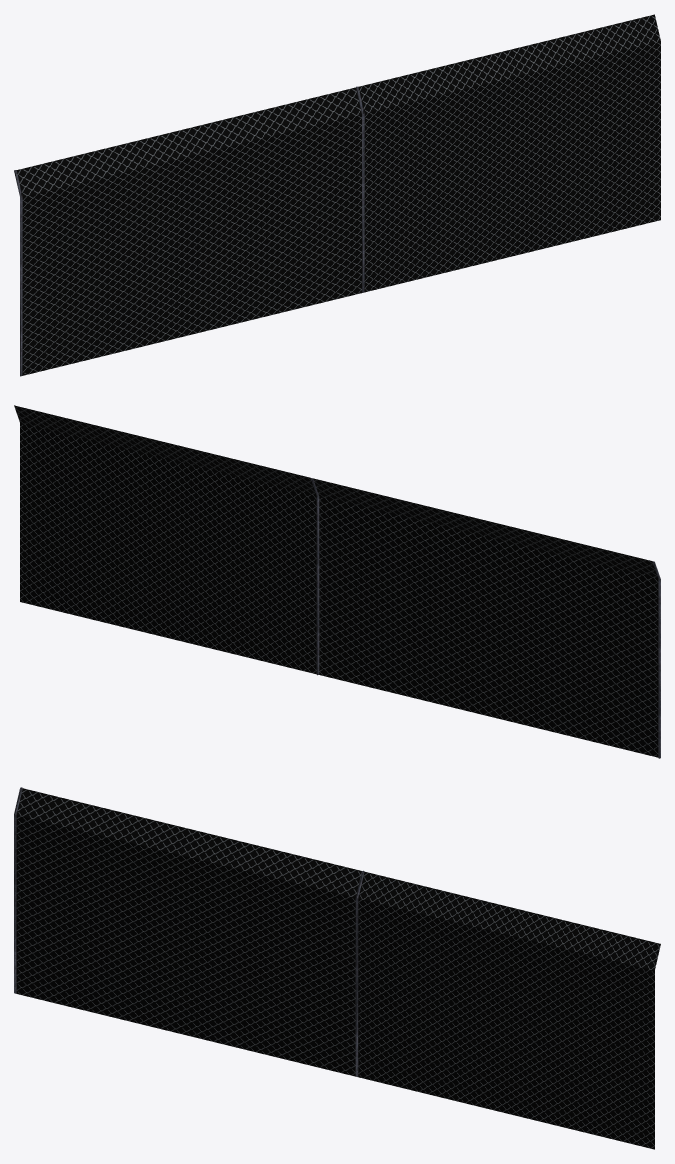
The model's file is M10_WireFence_FirePost1.glb.
The picture shows the model from 3 angles, top to bottom: view 1: azimuth 30°, elevation 25°; view 2: azimuth 150°, elevation 25°; view 3: azimuth 330°, elevation 25°; orthographic projection.
Visible parts, largest first — view 1: M10_WIREFENCE_FIREPOST1; view 2: M10_WIREFENCE_FIREPOST1; view 3: M10_WIREFENCE_FIREPOST1.
Boxes of the visible parts, x1,y1,x2,y2 form: M10_WIREFENCE_FIREPOST1: (14, 14, 660, 376); M10_WIREFENCE_FIREPOST1: (14, 405, 660, 758); M10_WIREFENCE_FIREPOST1: (14, 787, 660, 1149).
Bounding box in the file's own units: 7.5 × 2.25 × 0.141.
2 materials, 2 textured.
